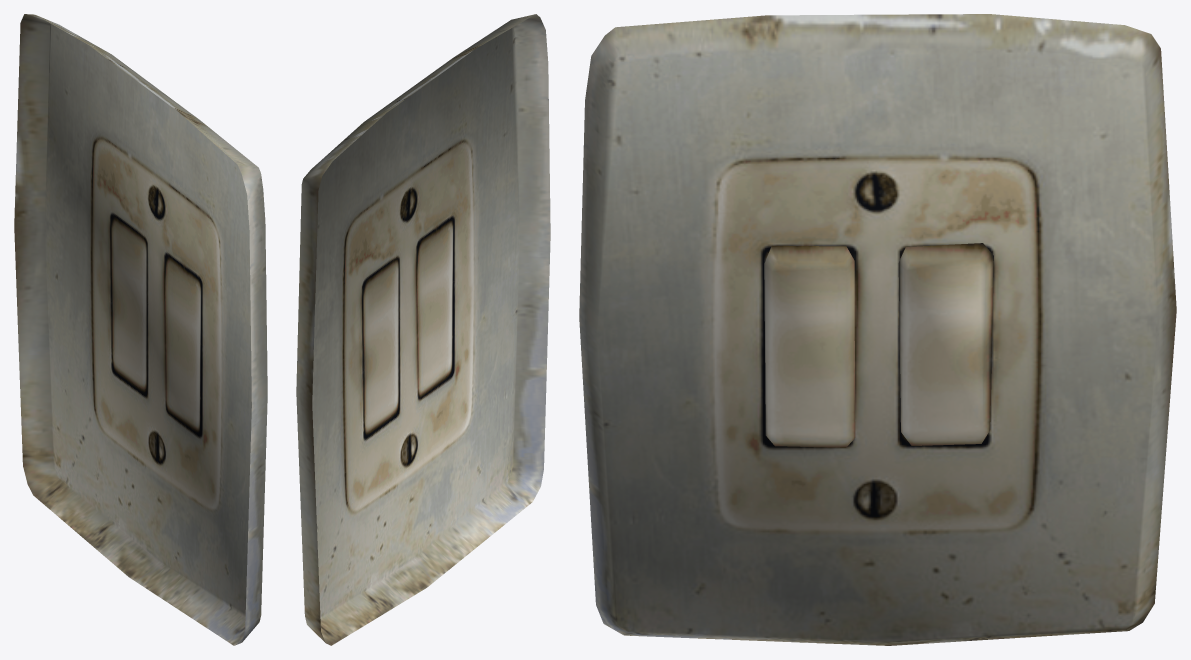
The model's file is Electrical_Switch_02.fbx.
The picture shows the model from 3 angles, left to right: view 1: azimuth 30°, elevation 25°; view 2: azimuth 150°, elevation 25°; view 3: azimuth 270°, elevation 25°; orthographic projection. The views are drawn at different scales.
Parts seen in each view (by area): view 1: Electrical_Switch_02; view 2: Electrical_Switch_02; view 3: Electrical_Switch_02.
Part boxes in pixels (x1,y1,x2,y2): Electrical_Switch_02: [14, 14, 267, 645]; Electrical_Switch_02: [296, 14, 550, 645]; Electrical_Switch_02: [579, 14, 1176, 645].
Size of the model in its own units: 1.18 by 14.41 by 16.82.
1 material, 1 textured.
